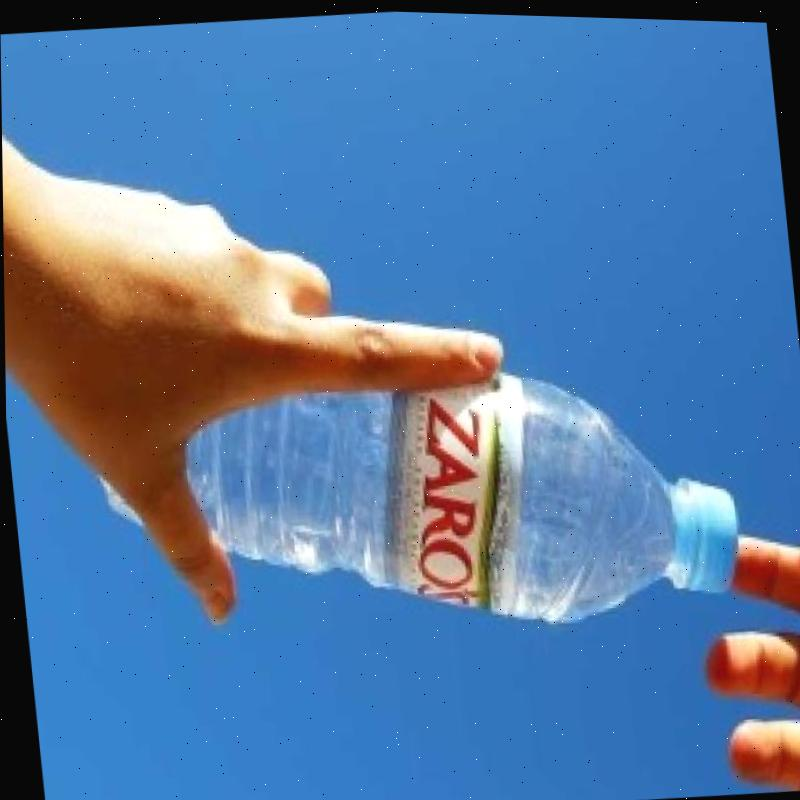botella: (88, 336, 750, 669)
